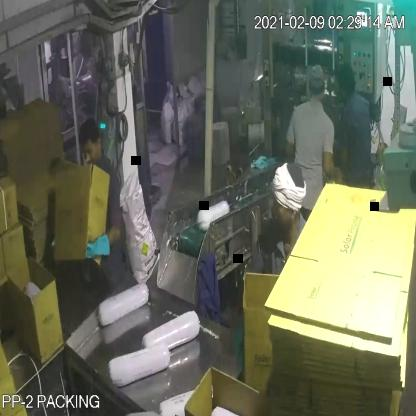glove: (76, 226, 117, 263)
no_glove: (314, 136, 348, 193)
